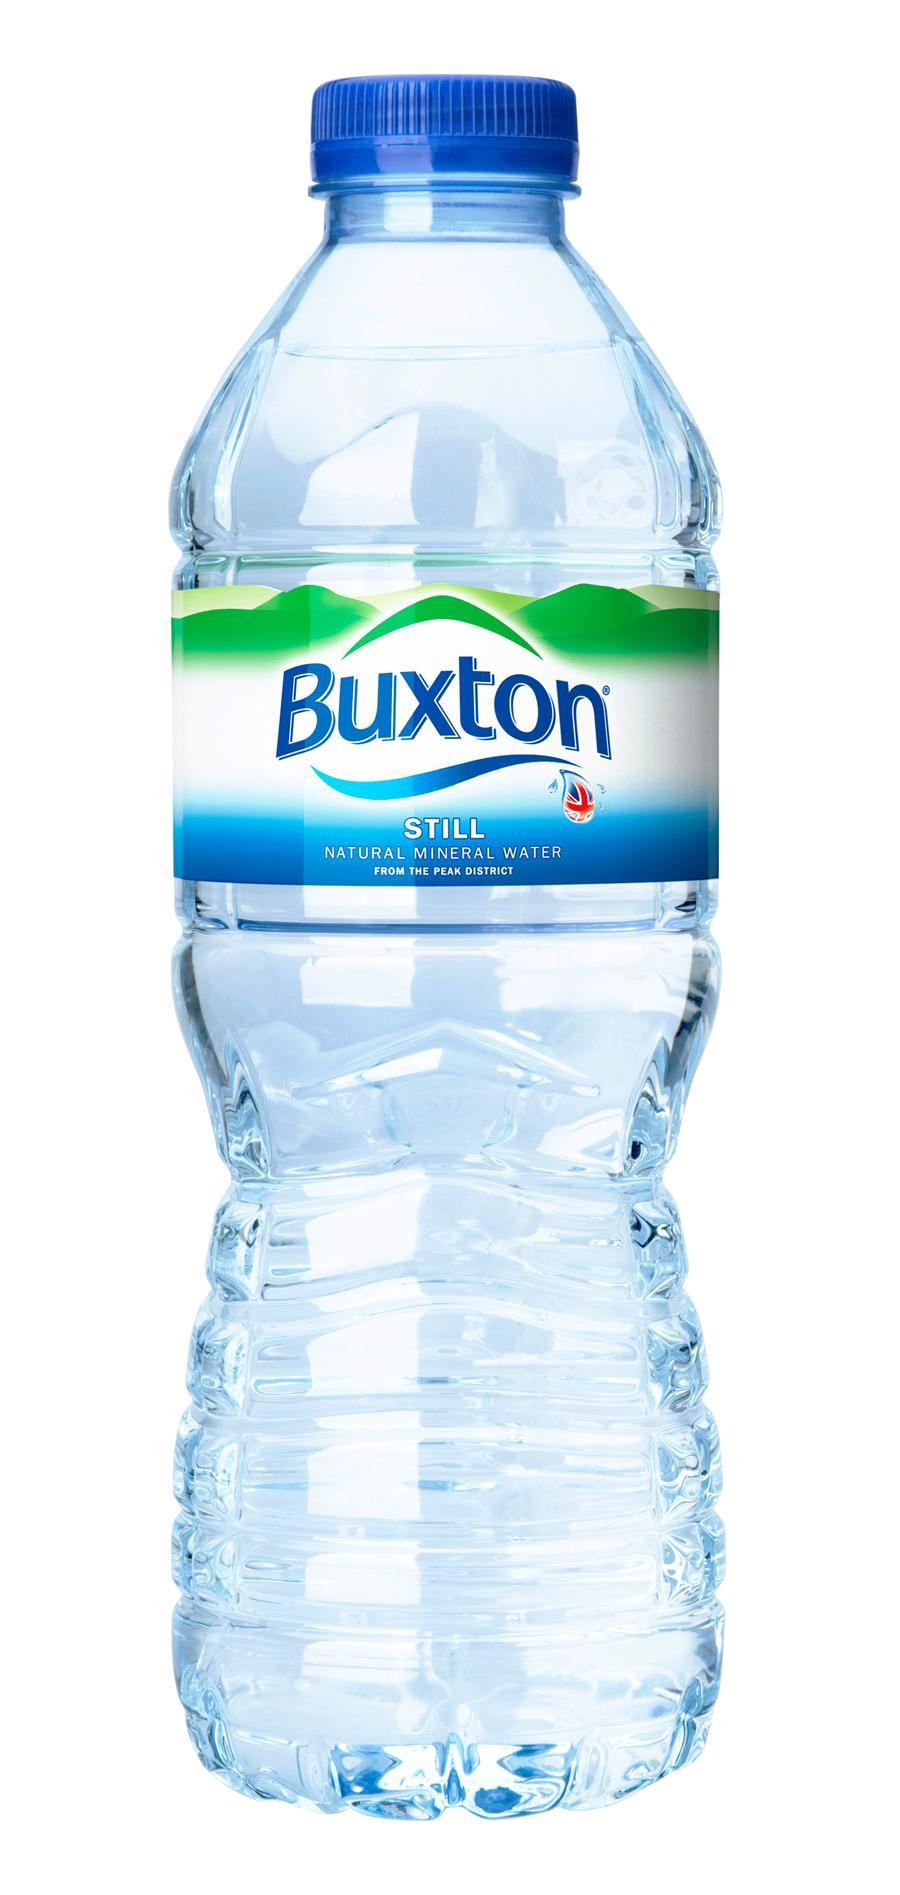bottle: (162, 41, 736, 1836)
